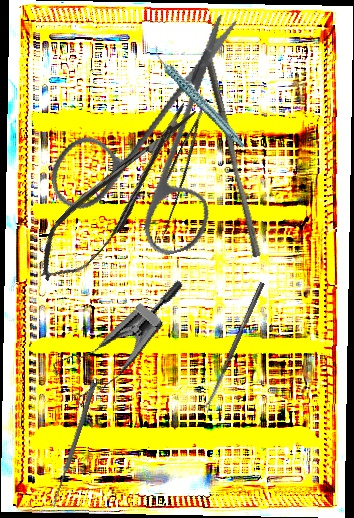Handpiece: (151, 32, 246, 163)
Iris Scissors: (20, 11, 294, 281)
Micro Scissor: (22, 93, 215, 294)
Pusher: (194, 50, 269, 258)
Speculum: (41, 247, 186, 422)
Surgical Spoon: (202, 281, 265, 413), (50, 381, 97, 509)
Tissue Forceps: (138, 109, 223, 242)
